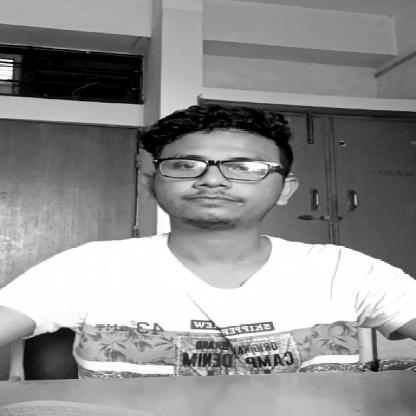Normal: (151, 109, 294, 226), (0, 396, 116, 416)
